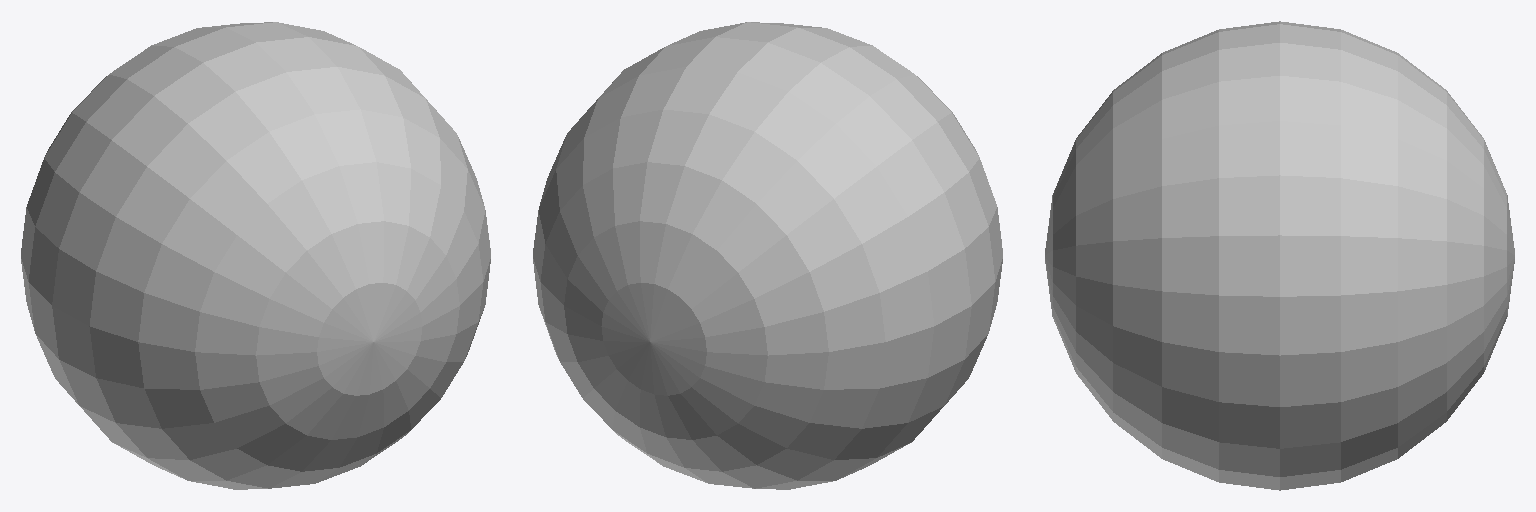
The model's file is futurePawn.obj.
The picture shows the model from 3 angles: view 1: azimuth 30°, elevation 25°; view 2: azimuth 150°, elevation 25°; view 3: azimuth 270°, elevation 25°; orthographic projection.
Parts seen in each view (by area): view 1: Mesh_ID2; view 2: Mesh_ID2; view 3: Mesh_ID2.
Boxes of the visible parts, box(x1,y1,x2,y2) form: Mesh_ID2: box(21, 22, 490, 489); Mesh_ID2: box(533, 22, 1002, 489); Mesh_ID2: box(1045, 21, 1514, 490).
Bounding box in the file's own units: 2.36 × 2.36 × 2.36.